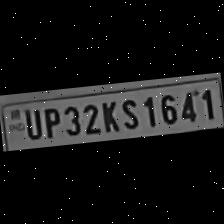1: (196, 85, 217, 121), (139, 92, 159, 128)
2: (78, 100, 100, 136)
3: (60, 102, 82, 137)
4: (176, 87, 199, 123)
6: (156, 90, 178, 127)
K: (97, 98, 120, 134)
P: (40, 104, 62, 140)
S: (116, 95, 140, 132)
U: (22, 106, 42, 141)
